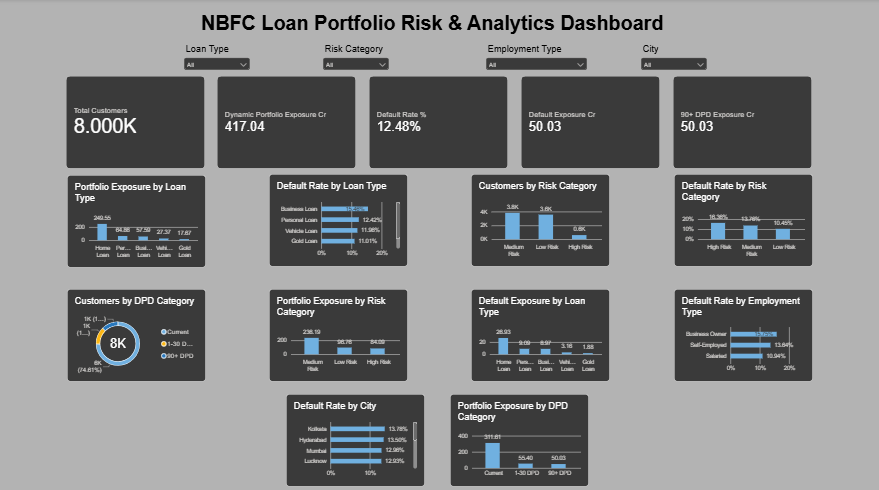

The page's visual inventory and layout, read from the dashboard file:
{"tool":"powerbi","page":{"name":"Page 1","canvas":[1920,1080],"ordinal":0},"visuals":[{"type":"cardVisual","fields":{"Data":["nbfc_risk_analytics city_risk_summary.Total Customers"]},"box":[148.3,166.1,300,200],"z":0},{"type":"cardVisual","fields":{"Data":["nbfc_risk_analytics city_risk_summary.Dynamic Portfolio Exposure Cr"]},"box":[476.1,166.1,300,200],"z":1000},{"type":"cardVisual","fields":{"Data":["nbfc_risk_analytics city_risk_summary.Default Rate %"]},"box":[803.9,166.3,300,200],"z":2000},{"type":"cardVisual","fields":{"Data":["nbfc_risk_analytics city_risk_summary.Default Exposure Cr"]},"box":[1131.6,166.5,300,200],"z":3000},{"type":"cardVisual","fields":{"Data":["nbfc_risk_analytics city_risk_summary.90+ DPD Exposure Cr"]},"box":[1459.4,165.9,300,200],"z":4000},{"type":"clusteredBarChart","title":"Default Rate by Loan Type","fields":{"Category":["nbfc_risk_analytics product_risk_summary.loan_type"],"Y":["nbfc_risk_analytics city_risk_summary.Default Rate %"]},"box":[587.9,378.5,300,200],"z":5000},{"type":"clusteredColumnChart","title":"Customers by Risk Category","fields":{"Category":["nbfc_risk_analytics customer_risk_scores.customer_risk_category"],"Y":["CountNonNull(nbfc_risk_analytics customer_risk_scores.customer_id)"]},"box":[1024.7,378.7,300,200],"z":6000},{"type":"clusteredColumnChart","title":"Default Rate by Risk Category","fields":{"Category":["nbfc_risk_analytics customer_risk_scores.customer_risk_category"],"Y":["nbfc_risk_analytics city_risk_summary.Default Rate %"]},"box":[1461.6,378.5,300,200],"z":7000},{"type":"donutChart","title":"Customers by DPD Category","fields":{"Category":["nbfc_risk_analytics dpd_risk_summary.dpd_category"],"Y":["Sum(nbfc_risk_analytics dpd_risk_summary.customers)"]},"box":[151.2,625.6,300,200],"z":8000},{"type":"clusteredColumnChart","title":"Portfolio Exposure by Risk Category","fields":{"Category":["nbfc_risk_analytics customer_risk_scores.customer_risk_category"],"Y":["nbfc_risk_analytics city_risk_summary.Portfolio Exposure Cr"]},"box":[588,625.6,300,200],"z":9000},{"type":"clusteredColumnChart","title":"Default Exposure by Loan Type","fields":{"Category":["nbfc_risk_analytics product_risk_summary.loan_type"],"Y":["nbfc_risk_analytics city_risk_summary.Default Exposure Cr"]},"box":[1024.9,625.6,300,200],"z":10000},{"type":"clusteredBarChart","title":"Default Rate by Employment Type","fields":{"Category":["nbfc_risk_analytics employment_risk_summary.employment_type"],"Y":["nbfc_risk_analytics city_risk_summary.Default Rate %"]},"box":[1461.7,625.5,300,200],"z":11000},{"type":"clusteredBarChart","title":"Default Rate by City","fields":{"Category":["nbfc_risk_analytics city_risk_summary.city"],"Y":["nbfc_risk_analytics city_risk_summary.Default Rate %"]},"box":[623.8,852.4,300,200],"z":12000},{"type":"clusteredColumnChart","title":"Portfolio Exposure by DPD Category","fields":{"Category":["nbfc_risk_analytics dpd_risk_summary.dpd_category"],"Y":["Sum(nbfc_risk_analytics dpd_risk_summary.total_exposure_cr)"]},"box":[978.6,852.4,300,200],"z":13000},{"type":"clusteredColumnChart","title":"Portfolio Exposure by Loan Type","fields":{"Category":["nbfc_risk_analytics product_risk_summary.loan_type"],"Y":["nbfc_risk_analytics city_risk_summary.Portfolio Exposure Cr"]},"box":[151,379.6,300,200],"z":14000},{"type":"textbox","box":[423.8,28.6,1033.3,57.1],"z":15000},{"type":"slicer","fields":{"Values":["nbfc_risk_analytics customer_risk_scores.customer_risk_category"]},"box":[699.8,97.2,151.2,60.5],"z":16000},{"type":"slicer","fields":{"Values":["nbfc_risk_analytics employment_risk_summary.employment_type"]},"box":[1051.9,97.2,226.8,60.5],"z":17000},{"type":"slicer","fields":{"Values":["nbfc_risk_analytics city_risk_summary.city"]},"box":[1386.7,97.2,151.2,60.5],"z":18000},{"type":"slicer","fields":{"Values":["nbfc_risk_analytics customer_risk_scores.loan_type"]},"box":[399.6,97.2,151.2,60.5],"z":19000}]}

Visuals, with their boxes in screenshot pixels (x1, y1, x2, y2), scaled from the page's 1920x1080 canvas onto the 879x490 screenshot:
cardVisual - nbfc_risk_analytics city_risk_summary.Total Customers: {"left": 68, "top": 75, "right": 205, "bottom": 166}
cardVisual - nbfc_risk_analytics city_risk_summary.Dynamic Portfolio Exposure Cr: {"left": 218, "top": 75, "right": 355, "bottom": 166}
cardVisual - nbfc_risk_analytics city_risk_summary.Default Rate %: {"left": 368, "top": 75, "right": 505, "bottom": 166}
cardVisual - nbfc_risk_analytics city_risk_summary.Default Exposure Cr: {"left": 518, "top": 76, "right": 655, "bottom": 166}
cardVisual - nbfc_risk_analytics city_risk_summary.90+ DPD Exposure Cr: {"left": 668, "top": 75, "right": 805, "bottom": 166}
"Default Rate by Loan Type" clusteredBarChart: {"left": 269, "top": 172, "right": 406, "bottom": 262}
"Customers by Risk Category" clusteredColumnChart: {"left": 469, "top": 172, "right": 606, "bottom": 263}
"Default Rate by Risk Category" clusteredColumnChart: {"left": 669, "top": 172, "right": 806, "bottom": 262}
"Customers by DPD Category" donutChart: {"left": 69, "top": 284, "right": 207, "bottom": 375}
"Portfolio Exposure by Risk Category" clusteredColumnChart: {"left": 269, "top": 284, "right": 407, "bottom": 375}
"Default Exposure by Loan Type" clusteredColumnChart: {"left": 469, "top": 284, "right": 607, "bottom": 375}
"Default Rate by Employment Type" clusteredBarChart: {"left": 669, "top": 284, "right": 807, "bottom": 375}
"Default Rate by City" clusteredBarChart: {"left": 286, "top": 387, "right": 423, "bottom": 477}
"Portfolio Exposure by DPD Category" clusteredColumnChart: {"left": 448, "top": 387, "right": 585, "bottom": 477}
"Portfolio Exposure by Loan Type" clusteredColumnChart: {"left": 69, "top": 172, "right": 206, "bottom": 263}
textbox: {"left": 194, "top": 13, "right": 667, "bottom": 39}
slicer - nbfc_risk_analytics customer_risk_scores.customer_risk_category: {"left": 320, "top": 44, "right": 390, "bottom": 72}
slicer - nbfc_risk_analytics employment_risk_summary.employment_type: {"left": 482, "top": 44, "right": 585, "bottom": 72}
slicer - nbfc_risk_analytics city_risk_summary.city: {"left": 635, "top": 44, "right": 704, "bottom": 72}
slicer - nbfc_risk_analytics customer_risk_scores.loan_type: {"left": 183, "top": 44, "right": 252, "bottom": 72}
